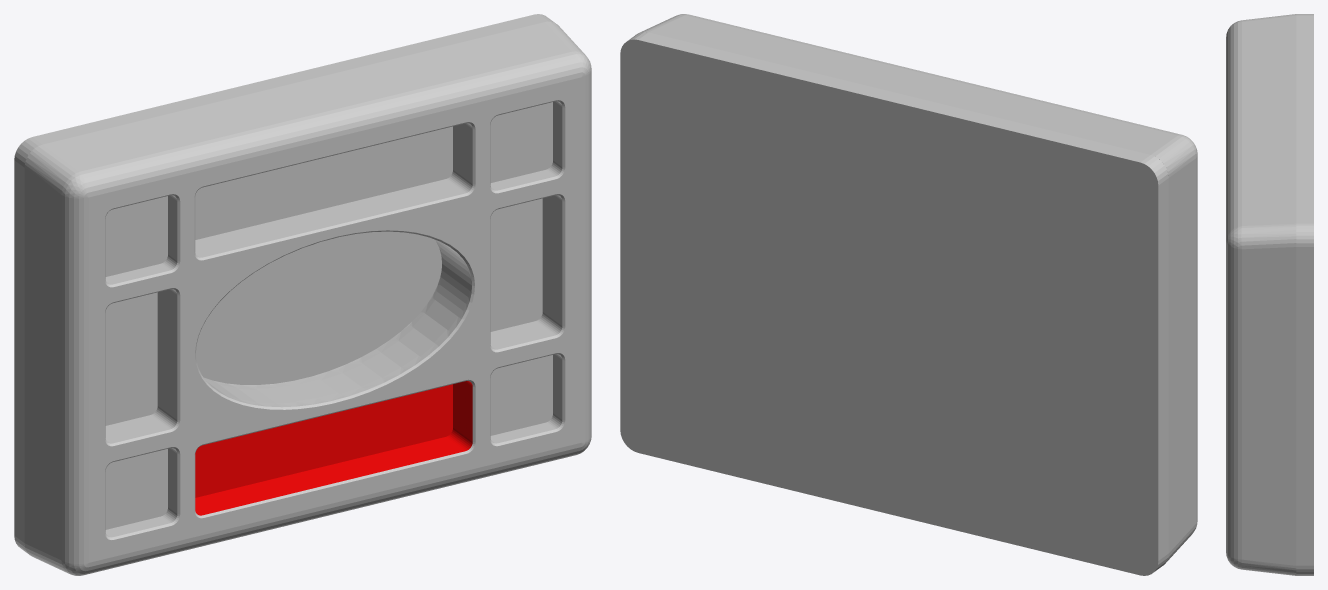
File: TESTE_M2_stp_148_149_150_151_152_153_154_155_156.obj
3 renders of one model, left to right at view 1: azimuth 30°, elevation 25°; view 2: azimuth 150°, elevation 25°; view 3: azimuth 270°, elevation 25°, orthographic. The views are drawn at different scales.
Parts seen in each view (by area): view 1: Object1; view 2: Object1; view 3: Object1.
Boxes of the visible parts, box(x1,y1,x2,y2) form: Object1: box(14, 14, 591, 575); Object1: box(620, 14, 1197, 575); Object1: box(1226, 14, 1313, 575).
Bounding box in the file's own units: 150 × 110 × 25.
